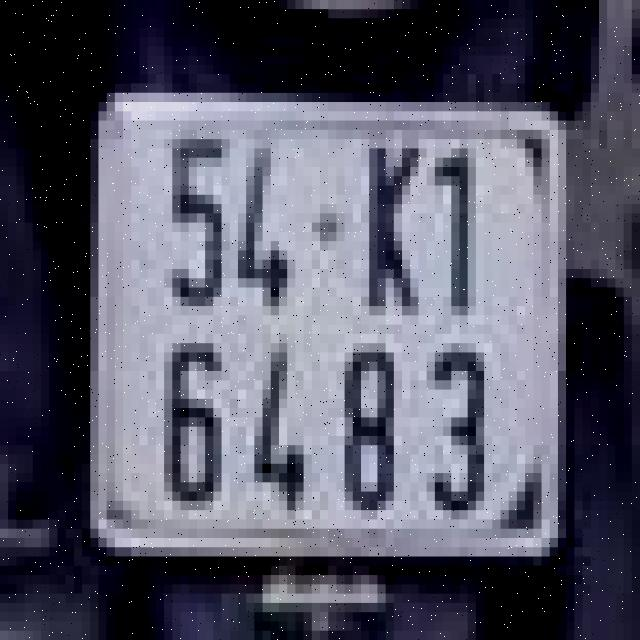1: (431, 134, 488, 330)
3: (422, 334, 497, 519)
4: (242, 339, 316, 524), (230, 121, 295, 306)
5: (160, 120, 234, 316)
6: (156, 316, 230, 510)
8: (332, 329, 398, 524)
K: (352, 116, 427, 329)
